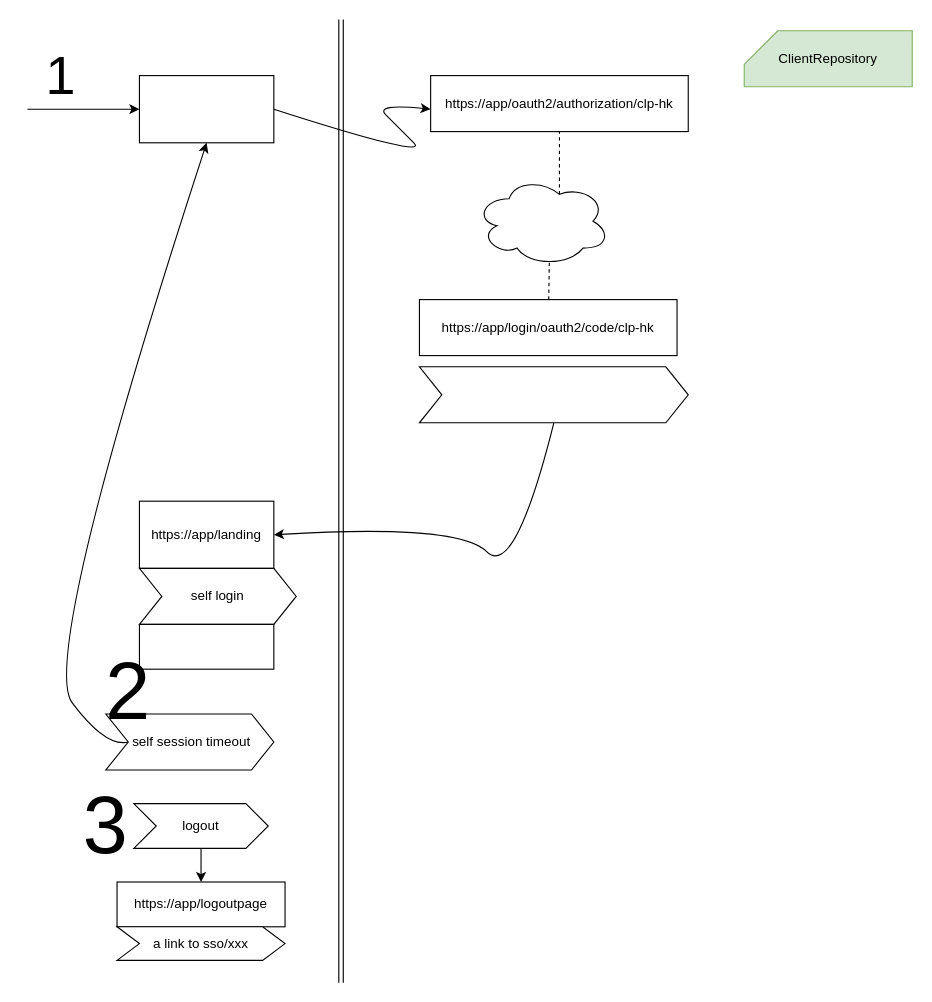
This 932x1002 diagram has some shape labels left out. The centre of each missing label's shape, as x and y in pixels:
"common user model filter" goes at (553,394).
"home page" goes at (206,646).
"https://app/sso/clp-hk" goes at (206,108).
"OpenID Connect flow" goes at (542,220).
